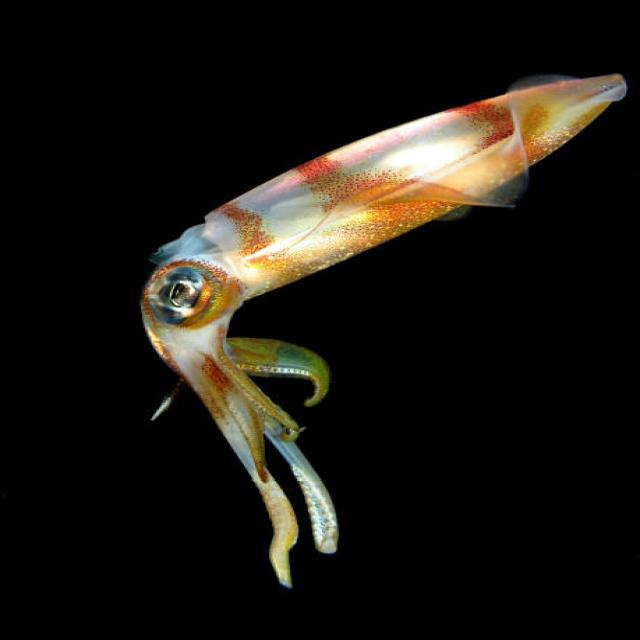SQUID: (115, 48, 640, 592)
